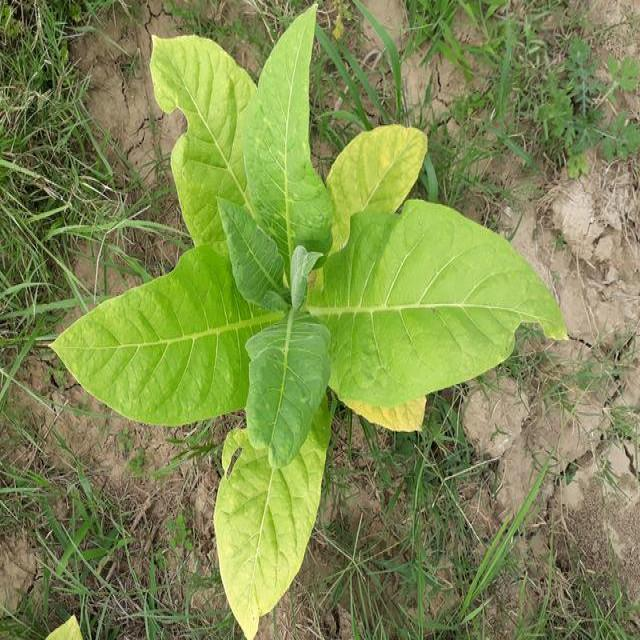crop: (62, 36, 552, 620)
